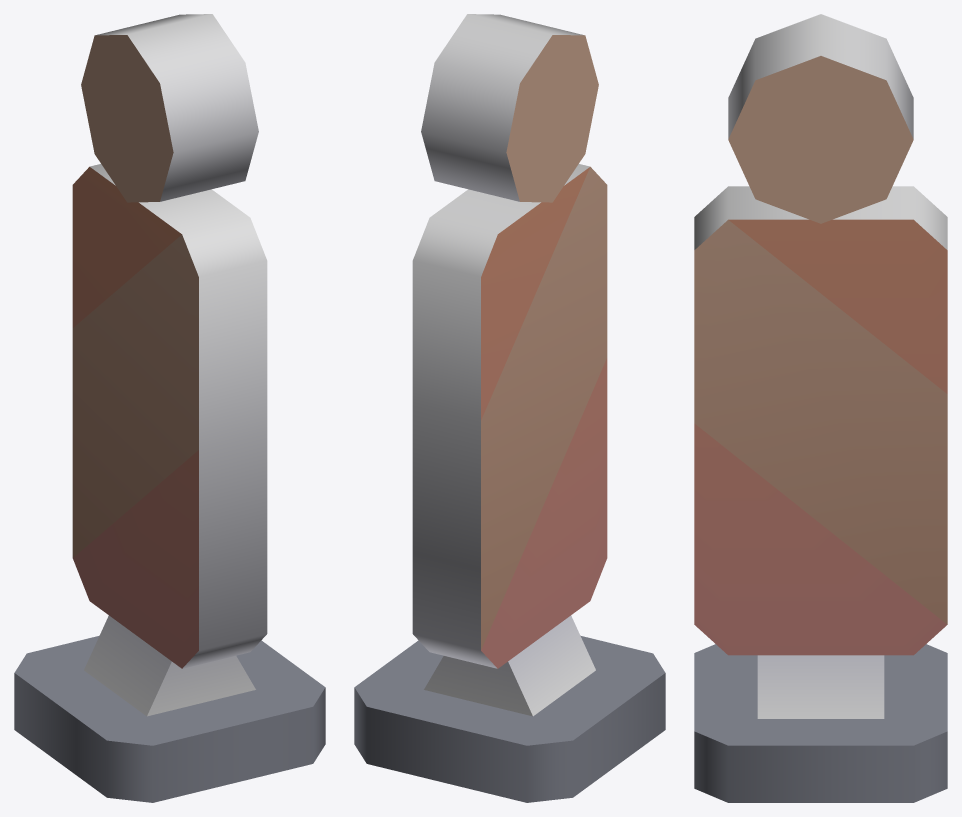
The model's file is construction-light.glb.
3 views of the same model, side by side, from view 1: azimuth 30°, elevation 25°; view 2: azimuth 150°, elevation 25°; view 3: azimuth 270°, elevation 25° (orthographic).
Parts seen in each view (by area): view 1: construction-light; view 2: construction-light; view 3: construction-light.
Boxes of the visible parts, <box> form: construction-light: <box>14,14,325,802</box>; construction-light: <box>354,14,665,802</box>; construction-light: <box>694,14,947,802</box>.
Size of the model in its own units: 0.075 by 0.2337 by 0.075.
